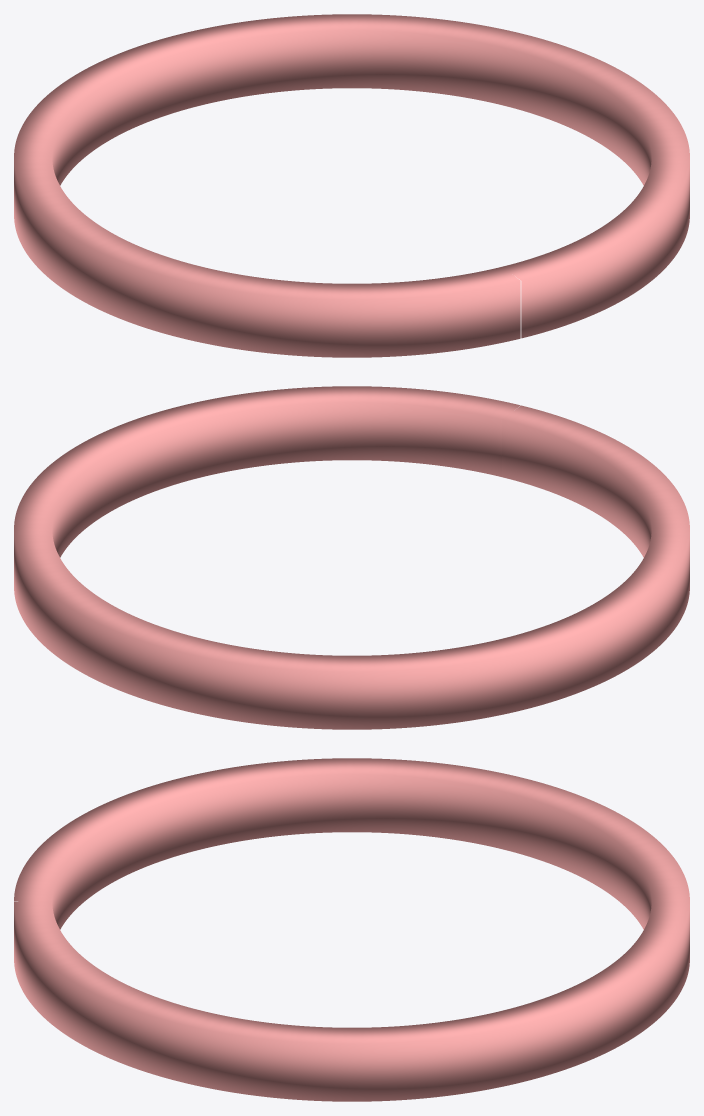
Rendered from coil_coil_2_tube.gltf.
3 views of the same model, one above another, from view 1: azimuth 30°, elevation 25°; view 2: azimuth 150°, elevation 25°; view 3: azimuth 270°, elevation 25° (orthographic).
Parts seen in each view (by area): view 1: Renderer Node; view 2: Renderer Node; view 3: Renderer Node.
Boxes of the visible parts, box(x1,y1,x2,y2) form: Renderer Node: box(14, 14, 689, 357); Renderer Node: box(14, 386, 689, 729); Renderer Node: box(14, 758, 689, 1101).
Size of the model in its own units: 0.636 by 0.06 by 0.636.
